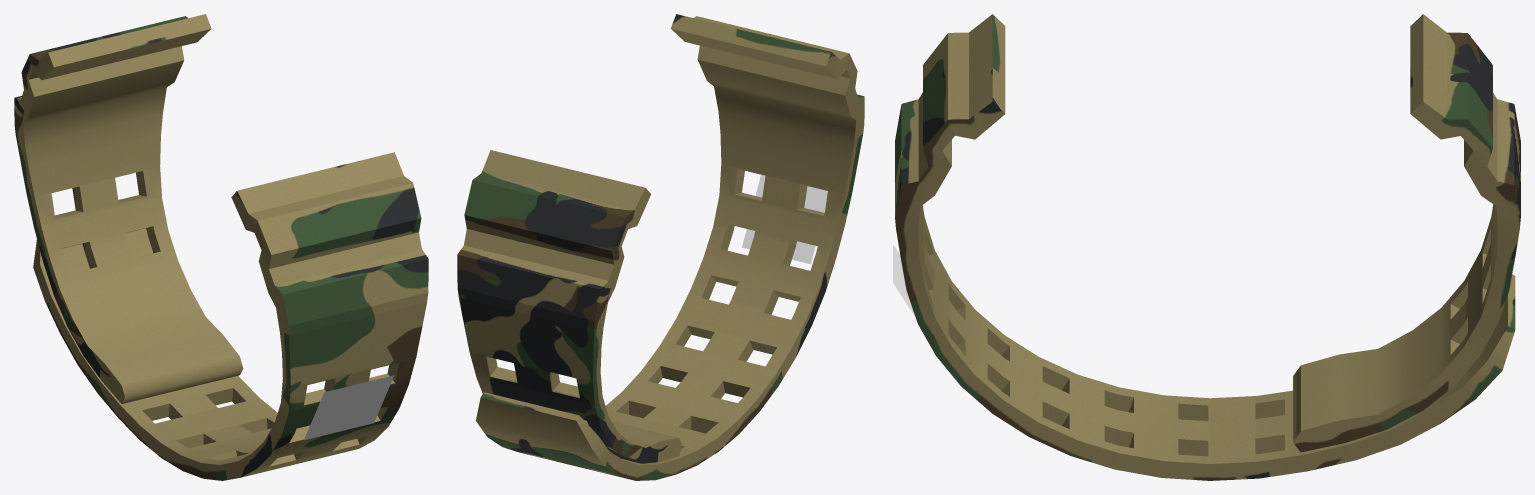
File: Strap.obj
3 views of the same model, side by side, from view 1: azimuth 30°, elevation 25°; view 2: azimuth 150°, elevation 25°; view 3: azimuth 270°, elevation 25° (orthographic). The views are drawn at different scales.
Visible parts, largest first — view 1: Strap, PlaceHolder; view 2: Strap, PlaceHolder; view 3: Strap.
Part boxes in pixels (x1=…): Strap: x1=14, y1=14, x2=428, y2=480; PlaceHolder: x1=304, y1=375, x2=394, y2=440; Strap: x1=457, y1=14, x2=864, y2=480; PlaceHolder: x1=742, y1=174, x2=827, y2=264; Strap: x1=895, y1=14, x2=1520, y2=480.
Size of the model in its own units: 2.25 by 4.66 by 6.79.
Materials: 2 (1 with a texture image).
